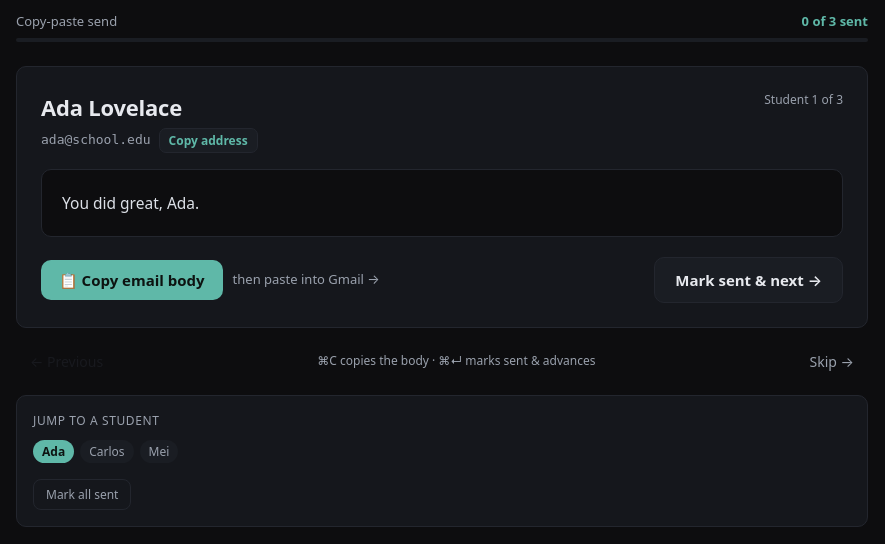
it: SendStepper › Previous and Skip navigate without marking sent
Click the button "Skip →" at (832,361), box 796,344 -> 868,379
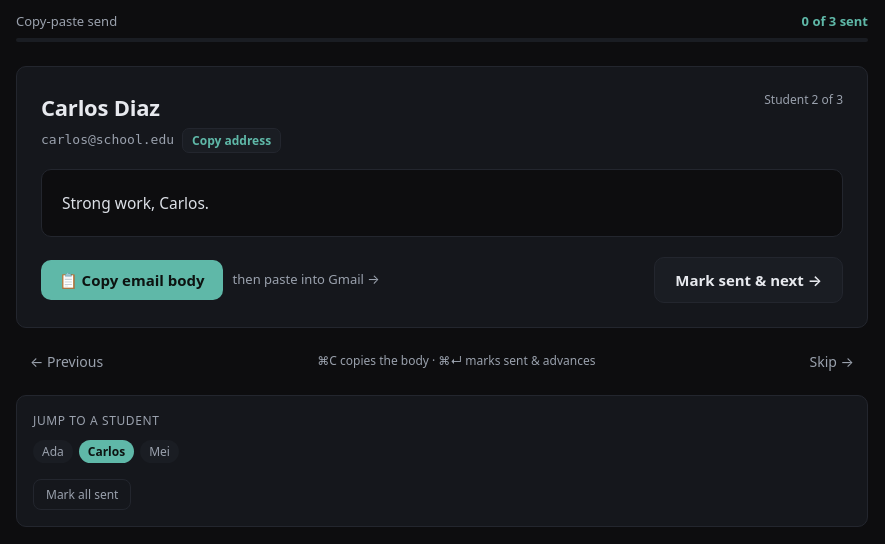
expect the text "Carlos Diaz" is shown: met, box 41,92 -> 160,122
Click the button "← Previous" at (67,361), box 16,344 -> 117,379
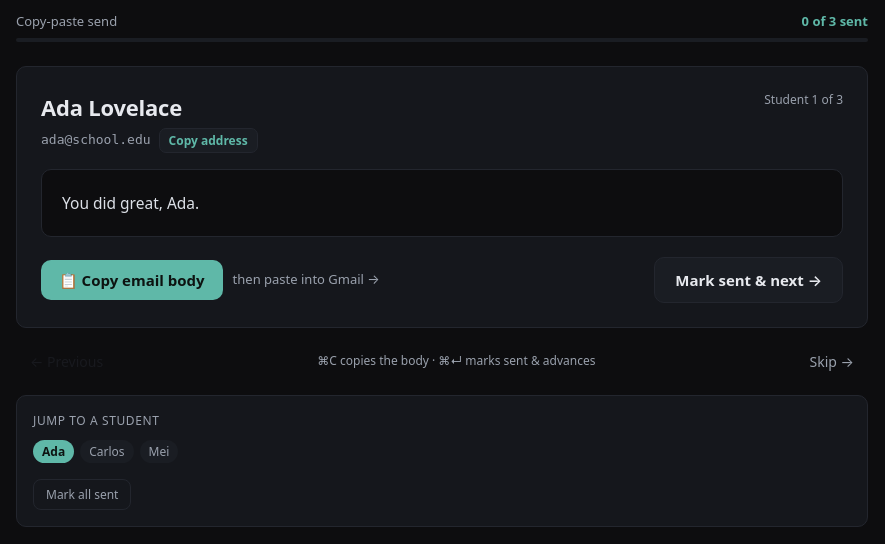
expect the text "Ada Lovelace" is shown: met, box 41,92 -> 182,122
